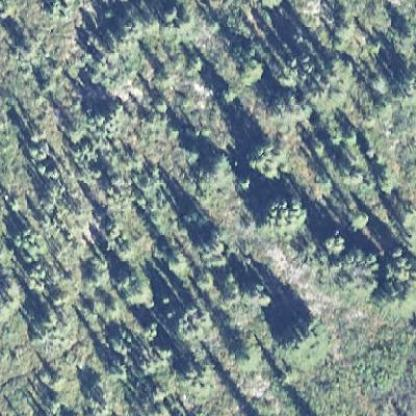tree-top: (274, 313, 324, 361), (246, 135, 285, 177), (265, 193, 306, 228), (203, 151, 231, 183), (195, 229, 224, 259), (372, 166, 396, 196), (322, 229, 346, 255), (238, 59, 261, 83), (38, 308, 60, 333), (15, 36, 38, 58)
